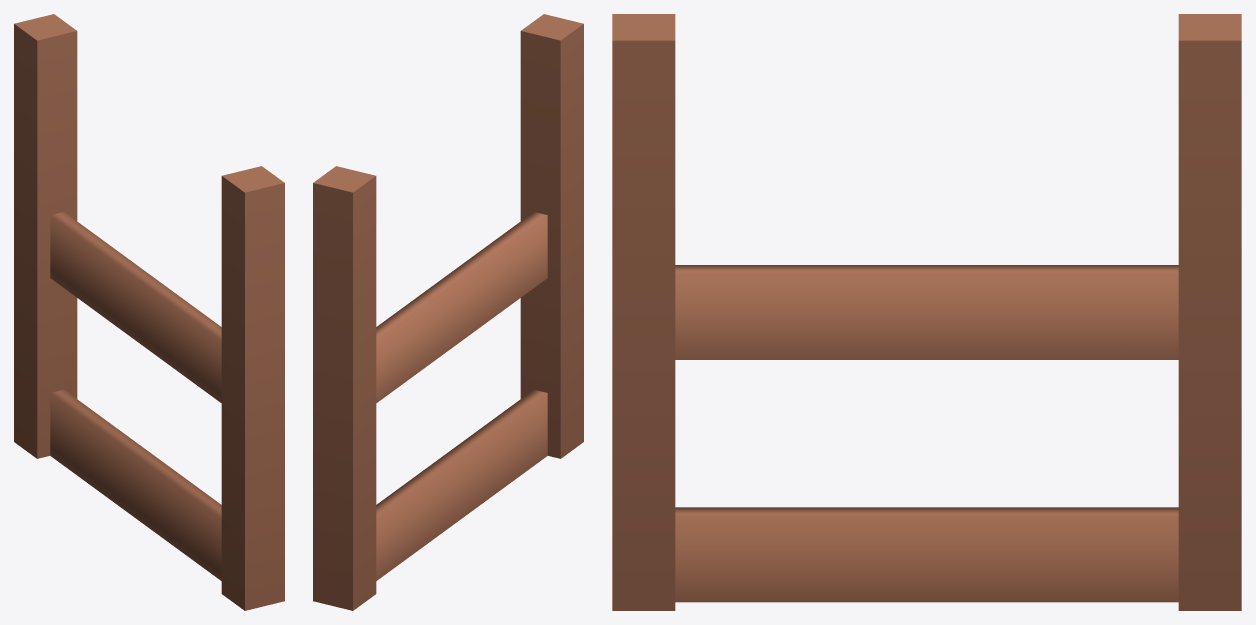
File: poles-horizontal.glb
The picture shows the model from 3 angles, left to right: view 1: azimuth 30°, elevation 25°; view 2: azimuth 150°, elevation 25°; view 3: azimuth 270°, elevation 25°; orthographic projection. The views are drawn at different scales.
Parts seen in each view (by area): view 1: poles-horizontal; view 2: poles-horizontal; view 3: poles-horizontal.
Boxes of the visible parts, x1=… form: poles-horizontal: x1=14, y1=14, x2=284, y2=610; poles-horizontal: x1=313, y1=14, x2=583, y2=610; poles-horizontal: x1=612, y1=14, x2=1241, y2=610.
Size of the model in its own units: 0.1 by 1 by 1.
